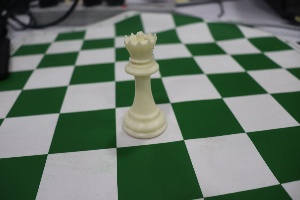white_queen: (111, 20, 174, 143)
